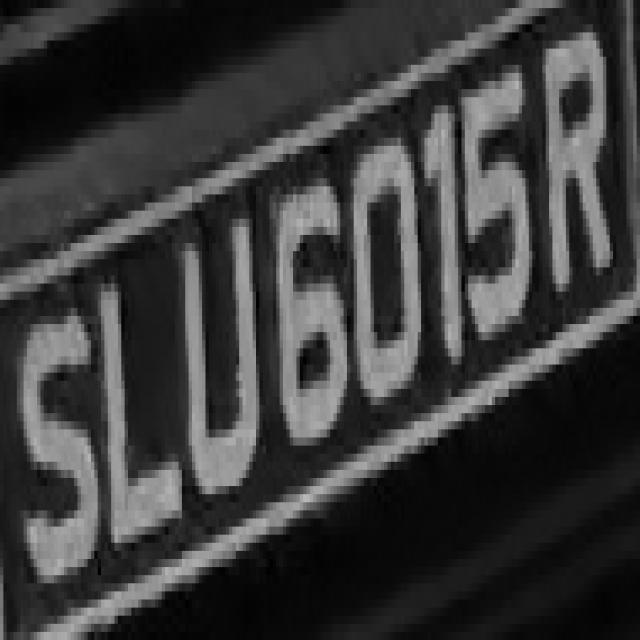0: (340, 122, 421, 421)
1: (424, 89, 472, 421)
5: (458, 57, 532, 380)
6: (270, 170, 354, 478)
L: (104, 276, 188, 567)
R: (532, 32, 610, 308)
S: (14, 292, 101, 600)
U: (172, 218, 269, 526)
